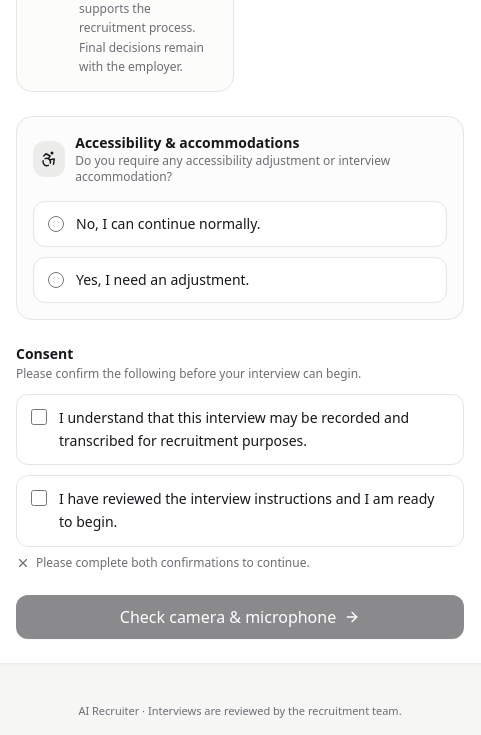
Scenario: Interview preparation page › keeps the continue button disabled until both consents are given
(page scrolled)
Expected: the button "Check camera & microphone" is disabled, [16,595,464,639]
What coordinates should you click on to do the following:
click the 1st checkbox
I would click on:
 (39, 417)
Its box is [31,409,47,425].
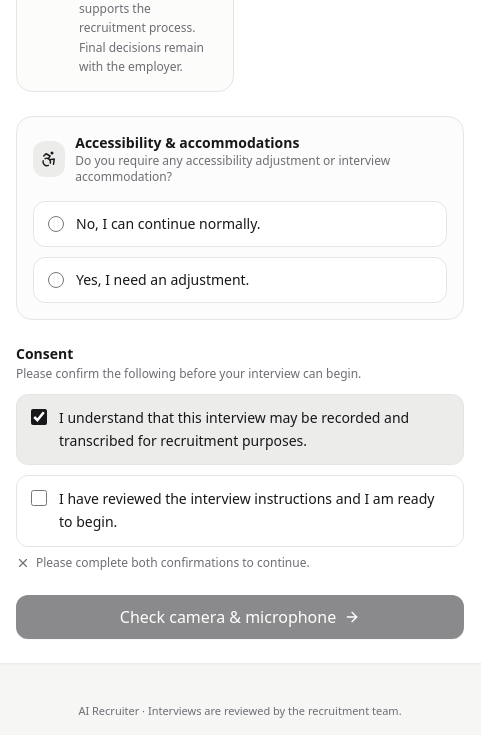
Expected: the button "Check camera & microphone" is disabled, [16,595,464,639]
What coordinates should you click on to do the following:
click the 2nd checkbox
I would click on:
 (39, 498)
Its box is [31,490,47,506].
(page scrolled)
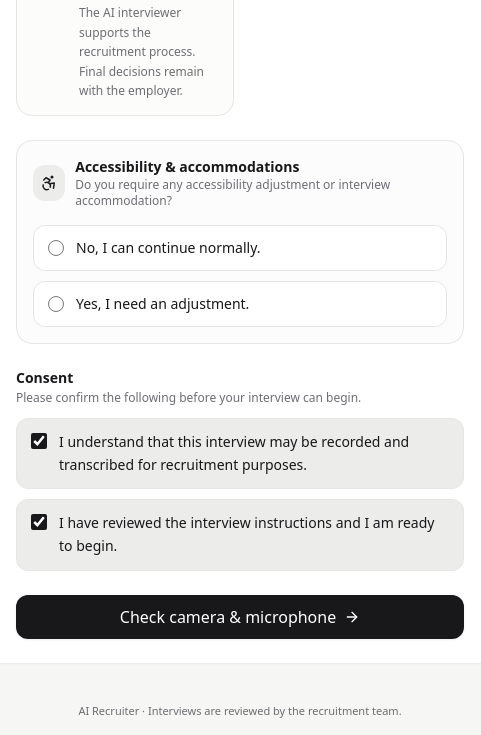
Now the button "Check camera & microphone" is enabled, box [16,595,464,639]
